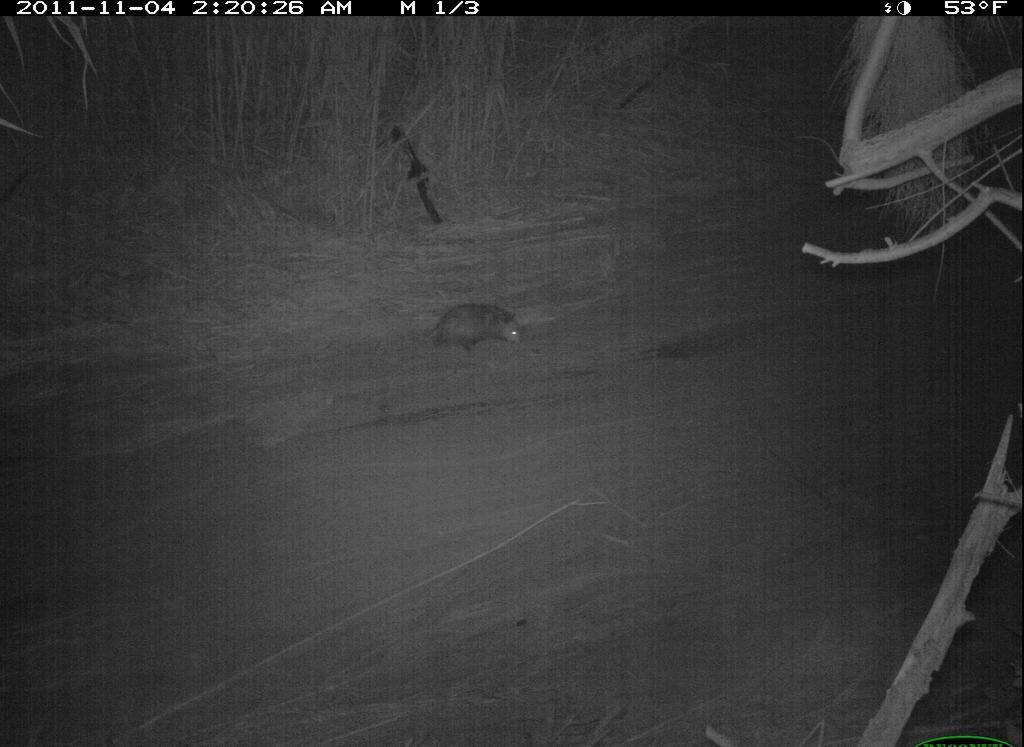opossum: (432, 299, 529, 358)
